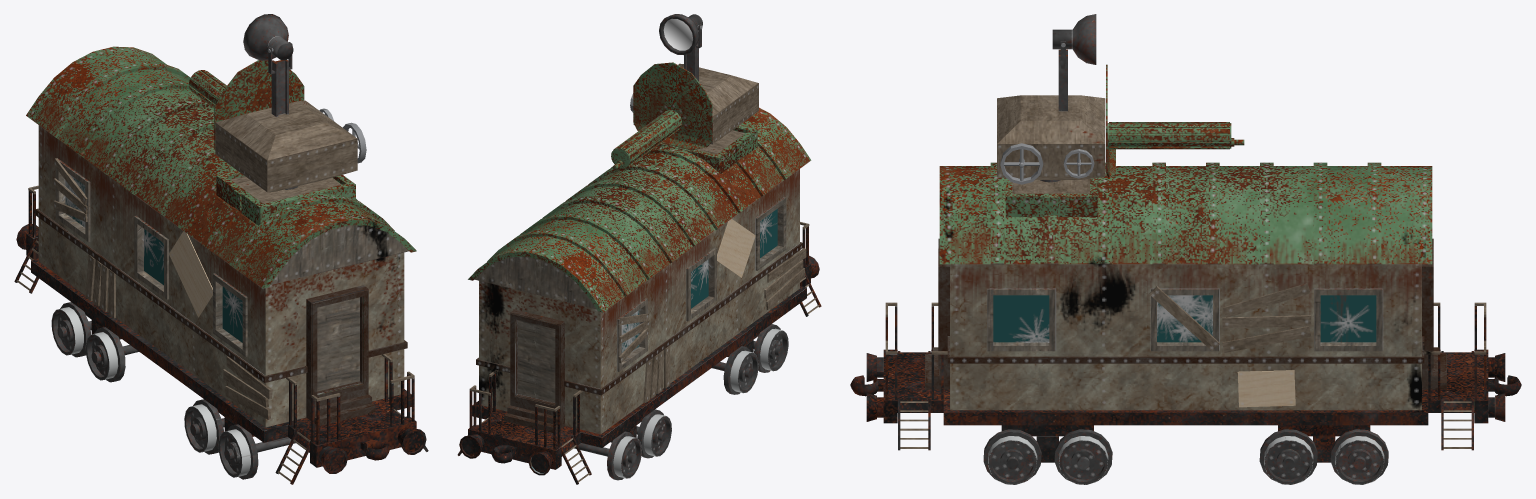
The model's file is attack_wagon_lvl_1.fbx.
3 renders of one model, left to right at view 1: azimuth 30°, elevation 25°; view 2: azimuth 150°, elevation 25°; view 3: azimuth 270°, elevation 25°, orthographic. The views are drawn at different scales.
Parts seen in each view (by area): view 1: Cube_001, Ку__006, __е__; view 2: Cube_001, Ку__006, __е__; view 3: Cube_001, Ку__006, __е__.
Part boxes in pixels (x1=…): Cube_001: x1=14, y1=46, x2=428, y2=484; Ку__006: x1=188, y1=42, x2=366, y2=192; __е__: x1=243, y1=14, x2=293, y2=60; Cube_001: x1=457, y1=107, x2=821, y2=484; Ку__006: x1=611, y1=24, x2=758, y2=169; __е__: x1=659, y1=14, x2=702, y2=55; Cube_001: x1=850, y1=162, x2=1521, y2=484; Ку__006: x1=997, y1=41, x2=1244, y2=184; __е__: x1=1052, y1=14, x2=1096, y2=64.
Size of the model in its own units: 1176 by 2952 by 4133.
Materials: 2 (1 with a texture image).
